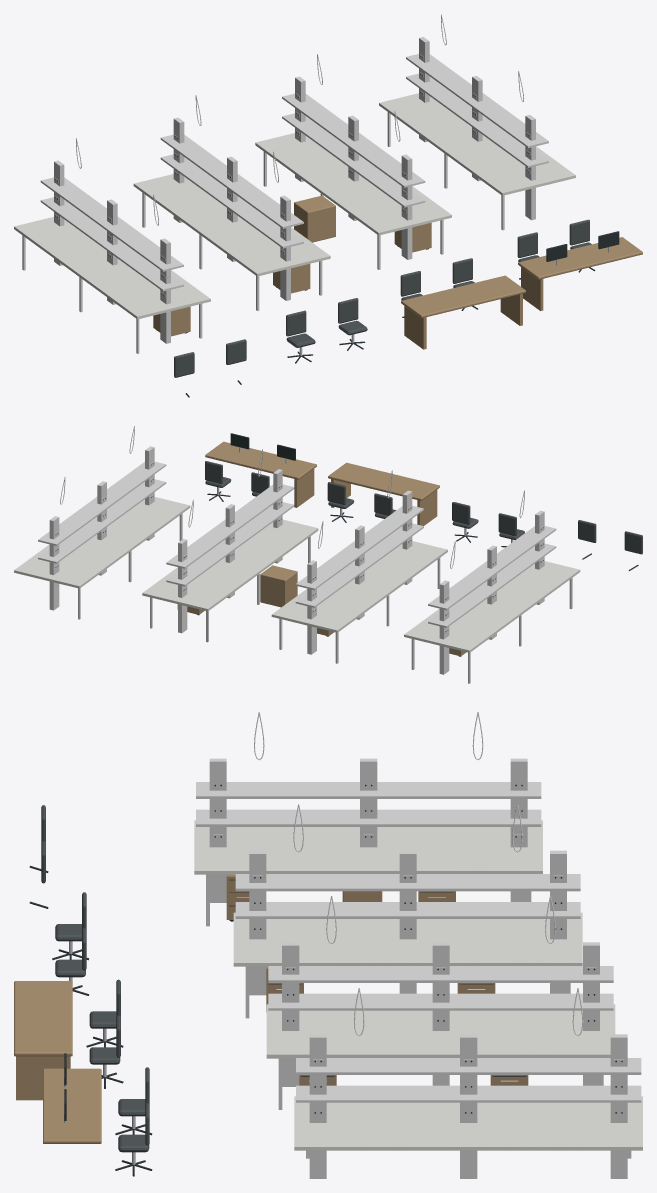
Rendered from SM_L5_Furniture_Solid_5d9370bbc4_0.fbx.
3 renders of one model, top to bottom at view 1: azimuth 30°, elevation 25°; view 2: azimuth 150°, elevation 25°; view 3: azimuth 270°, elevation 25°, orthographic. The views are drawn at different scales.
Visible parts, largest first — view 1: SM_L5_Furniture_Solid_5d9370bbc4_0; view 2: SM_L5_Furniture_Solid_5d9370bbc4_0; view 3: SM_L5_Furniture_Solid_5d9370bbc4_0.
Boxes of the visible parts, x1=… form: SM_L5_Furniture_Solid_5d9370bbc4_0: x1=14, y1=14, x2=642, y2=397; SM_L5_Furniture_Solid_5d9370bbc4_0: x1=14, y1=426, x2=642, y2=683; SM_L5_Furniture_Solid_5d9370bbc4_0: x1=14, y1=712, x2=642, y2=1178.
Bounding box in the file's own units: 11.69 × 9.2 × 3.12.
